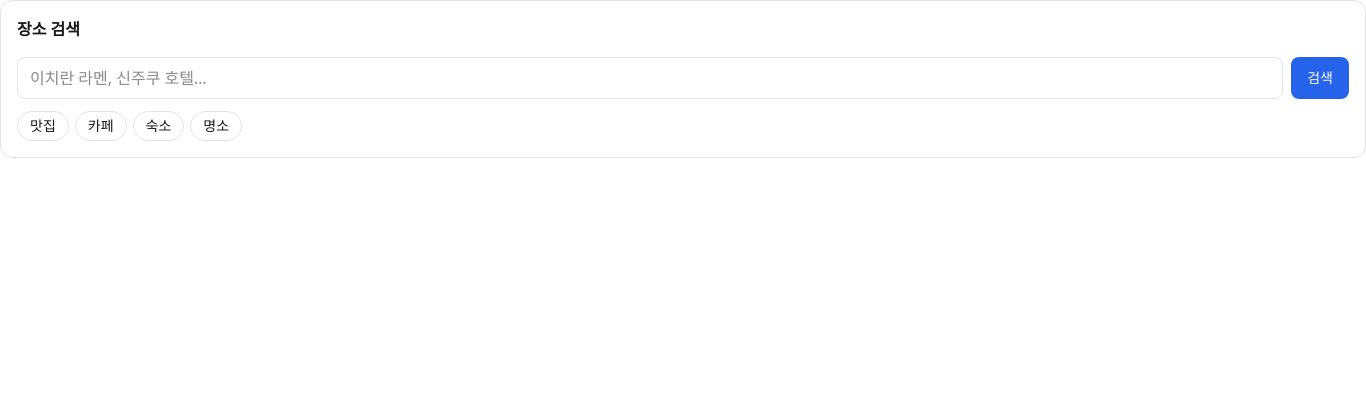
it: 장소 선택 단계 › 장소 선택 다음에는 결과 목록 대신 시간 입력을 보여 주고 돌아갈 수 있다
Type "카페" into the field named "장소 검색어".
click(650, 78); type("카페")  # box [17,57,1283,99]
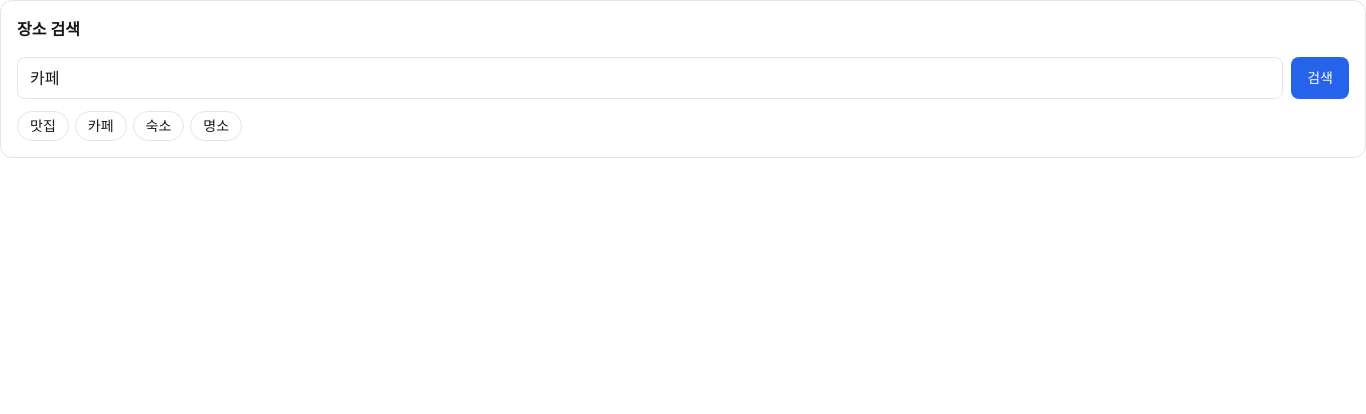
Click the button "검색".
click(1320, 78)  # box [1291,57,1349,99]
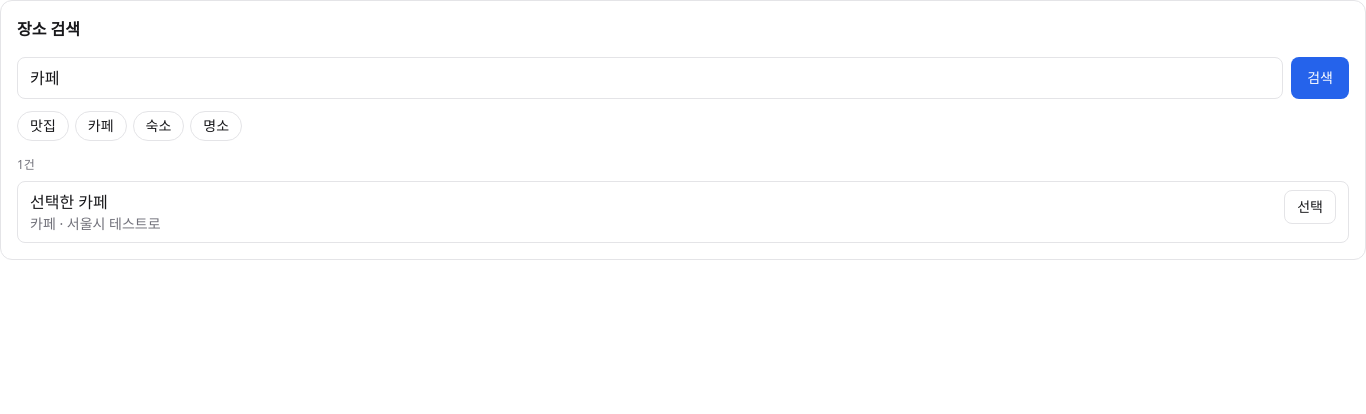
Expected: the button "선택" is shown
Click the button "선택".
click(1310, 207)  # box [1284,190,1336,224]
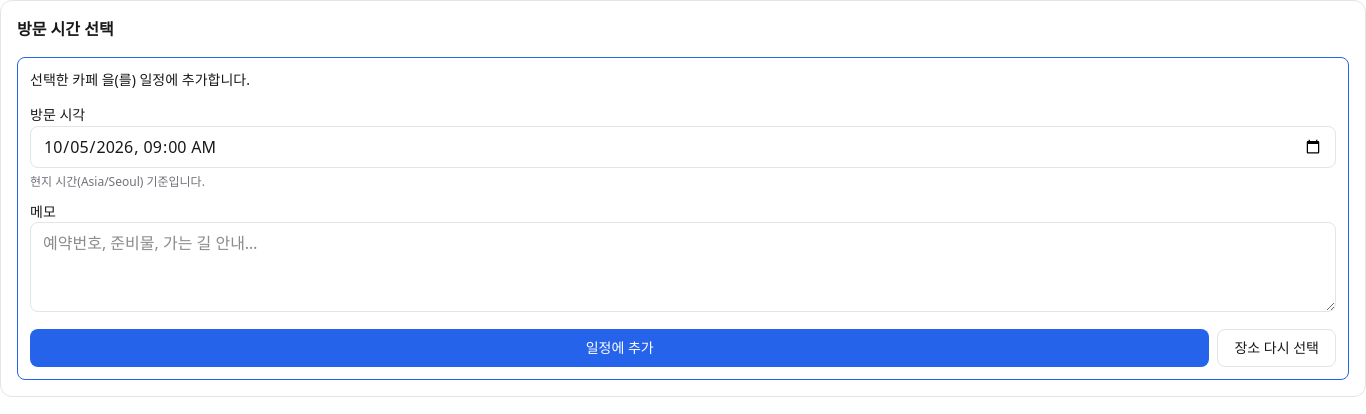
Expected: the field labelled "방문 시각" holds "2026-10-05T09:00", [30,126,1336,168]
Click the button "장소 다시 선택".
click(1277, 348)  # box [1217,329,1336,367]
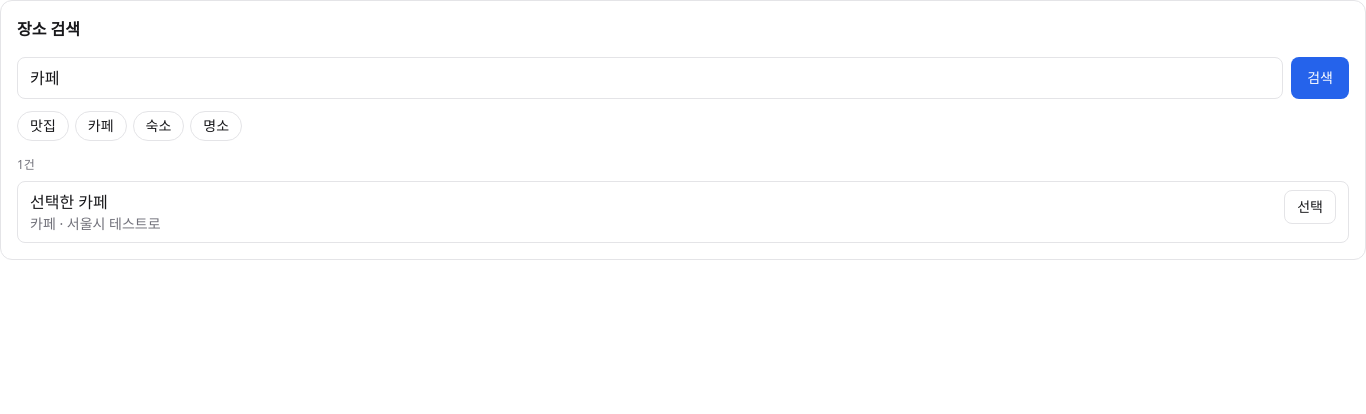
Expected: the text "선택한 카페" is shown, [30,191,108,213]
Expected: the field named "장소 검색어" holds "카페", [17,57,1283,99]
